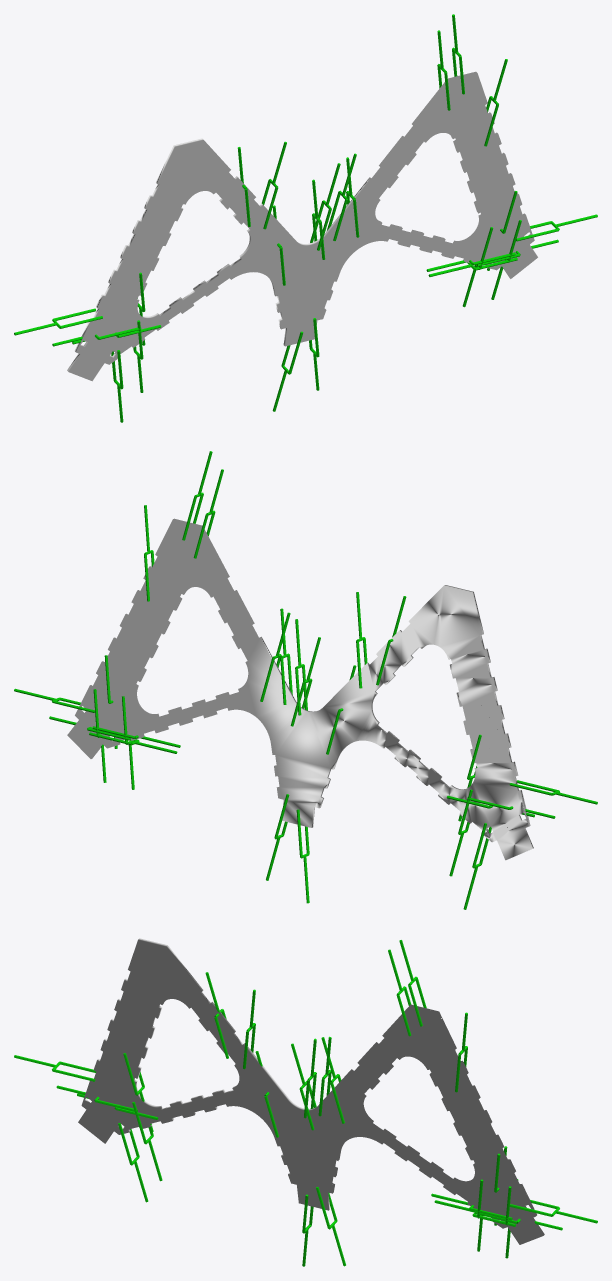
The picture shows the model from 3 angles, top to bottom: view 1: azimuth 30°, elevation 25°; view 2: azimuth 150°, elevation 25°; view 3: azimuth 330°, elevation 25°; orthographic projection.
Parts seen in each view (by area): view 1: 00530184_cc1436a7703eff8b737246dc_step_000_0032.obj, world; view 2: 00530184_cc1436a7703eff8b737246dc_step_000_0032.obj, world; view 3: 00530184_cc1436a7703eff8b737246dc_step_000_0032.obj, world.
Part boxes in pixels (x1=…): 00530184_cc1436a7703eff8b737246dc_step_000_0032.obj: x1=67, y1=71, x2=537, y2=381; world: x1=14, y1=14, x2=597, y2=422; 00530184_cc1436a7703eff8b737246dc_step_000_0032.obj: x1=67, y1=518, x2=533, y2=860; world: x1=14, y1=451, x2=597, y2=909; 00530184_cc1436a7703eff8b737246dc_step_000_0032.obj: x1=78, y1=938, x2=544, y2=1244; world: x1=14, y1=940, x2=597, y2=1266.
Size of the model in its own units: 917 by 588 by 114.
